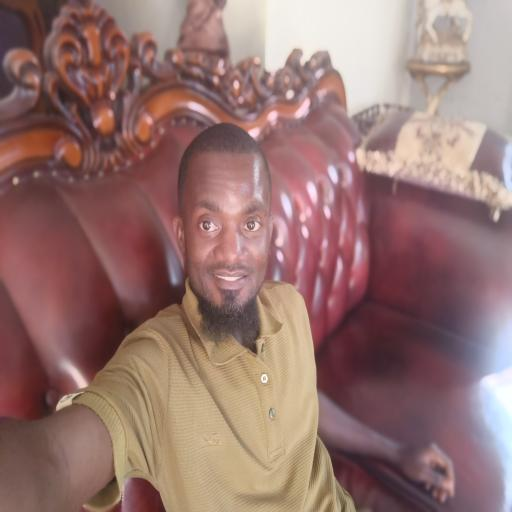MATTHIEU: (172, 114, 278, 346)
